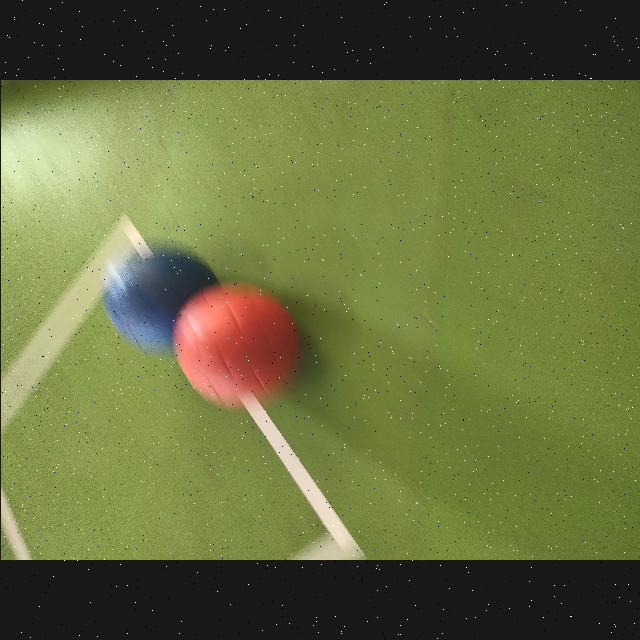B: (102, 254, 216, 352)
R: (172, 282, 300, 408)
